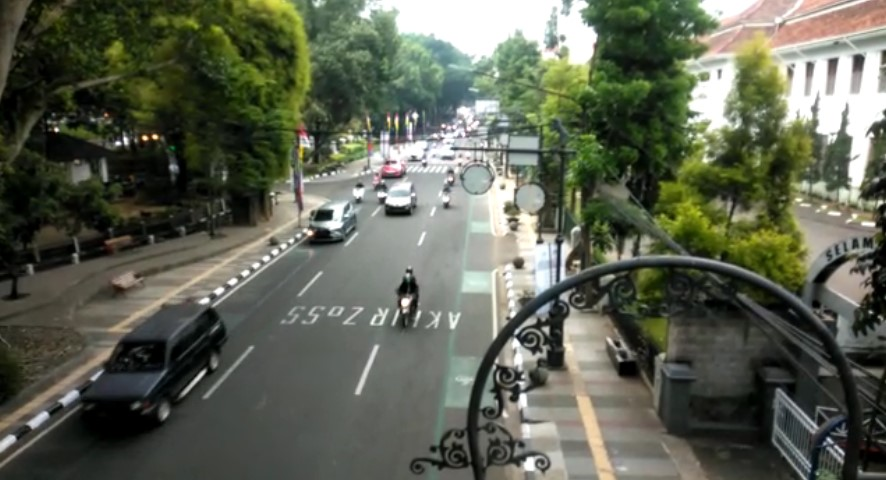mobil: (73, 299, 237, 436), (305, 199, 364, 243), (384, 180, 417, 217)
motor: (392, 268, 428, 326), (440, 181, 454, 207), (350, 181, 366, 202)
